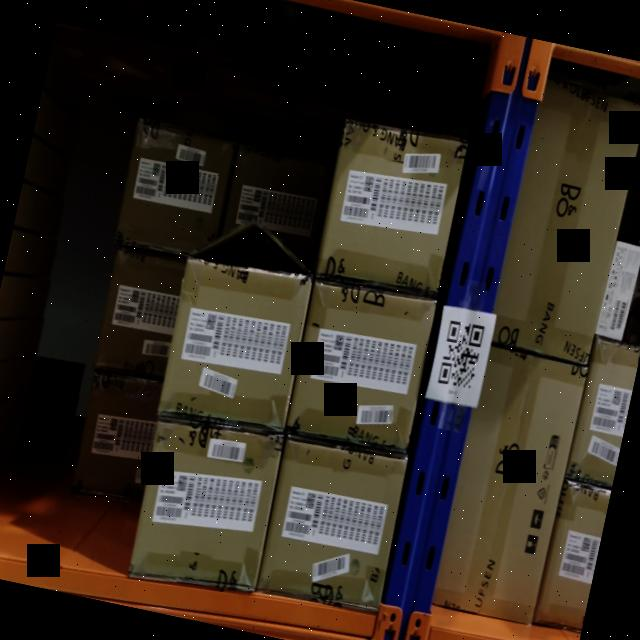box: (154, 251, 315, 440), (313, 114, 471, 298), (283, 274, 438, 458), (128, 416, 283, 591), (256, 436, 408, 614)
